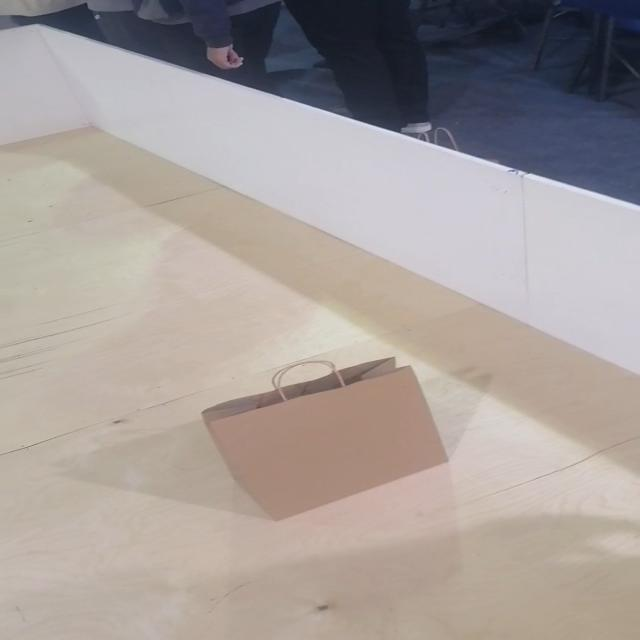Kardus: (199, 353, 449, 521)
